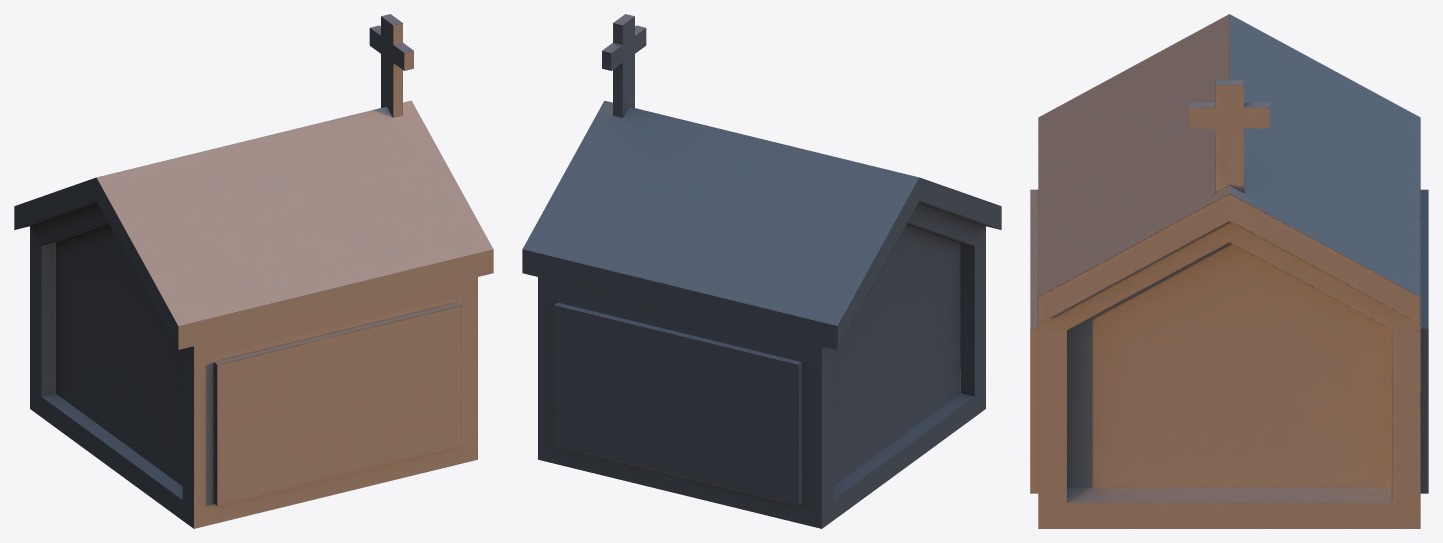
3 renders of one model, left to right at view 1: azimuth 30°, elevation 25°; view 2: azimuth 150°, elevation 25°; view 3: azimuth 270°, elevation 25°, orthographic. The views are drawn at different scales.
Parts seen in each view (by area): view 1: Tombe3 high; view 2: Tombe3 high; view 3: Tombe3 high.
Part boxes in pixels (x1=…): Tombe3 high: x1=14, y1=14, x2=493, y2=528; Tombe3 high: x1=522, y1=14, x2=1001, y2=528; Tombe3 high: x1=1030, y1=14, x2=1428, y2=528.
Size of the model in its own units: 2.22 by 2.56 by 2.08.
1 material, 1 textured.
